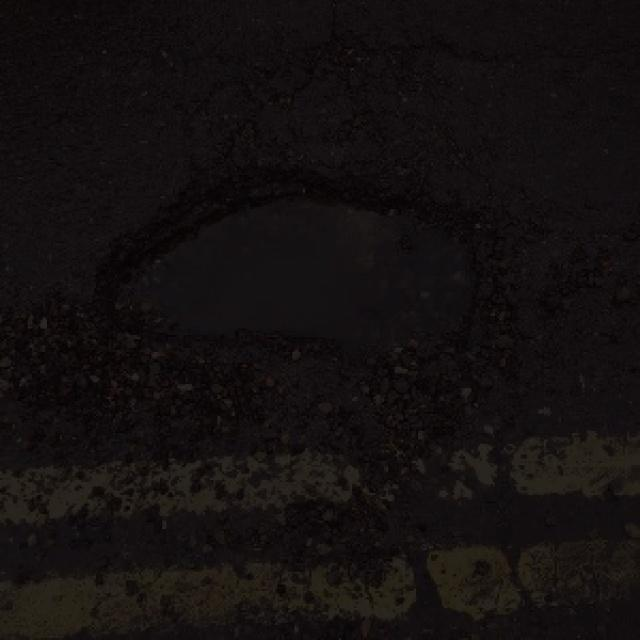Pothole: (46, 150, 519, 392)
